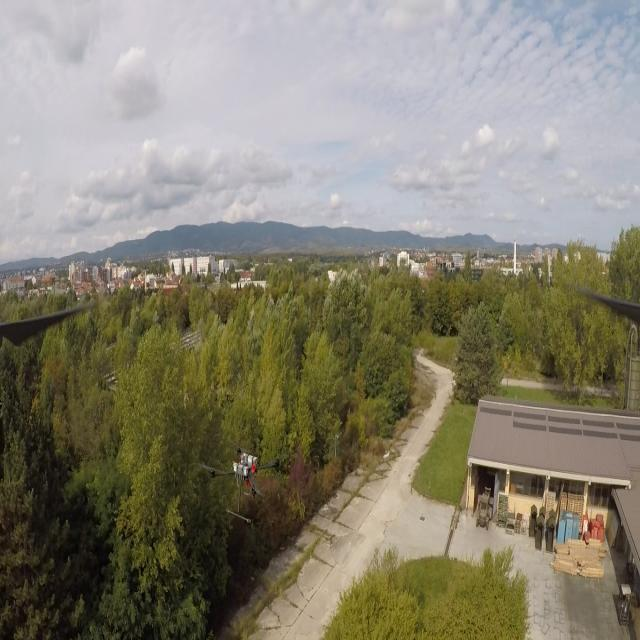UAV: (204, 441, 284, 525)
